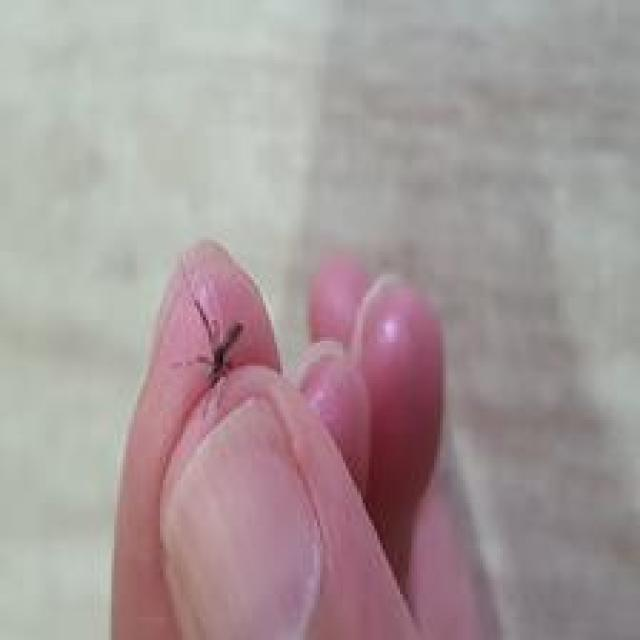Aedes albopictus: (107, 237, 513, 640)
